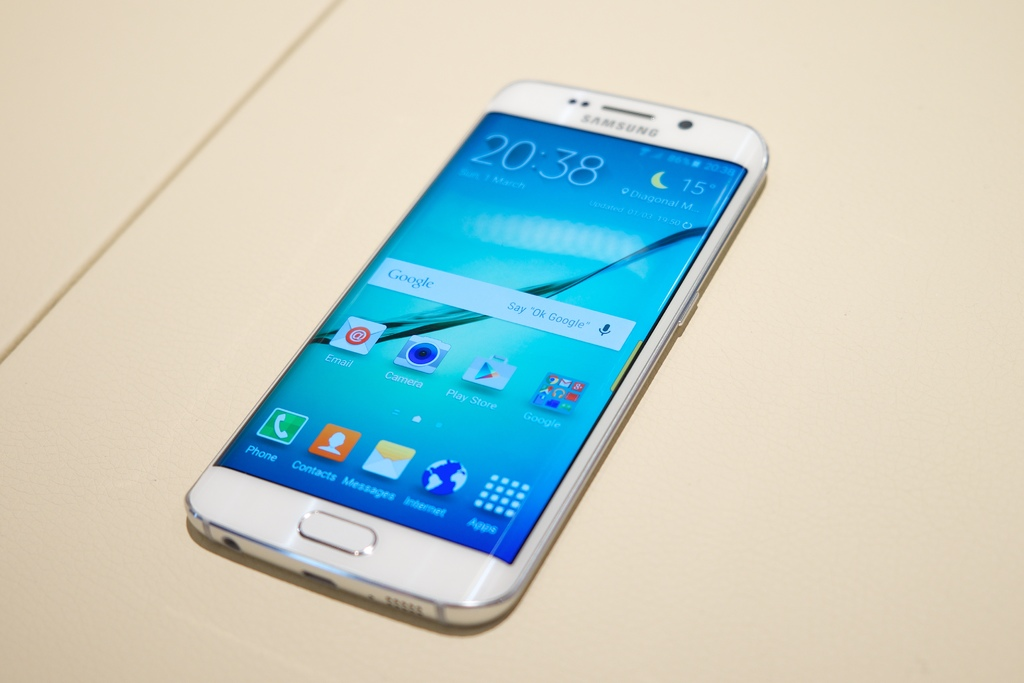mobile phone: (179, 78, 773, 628)
